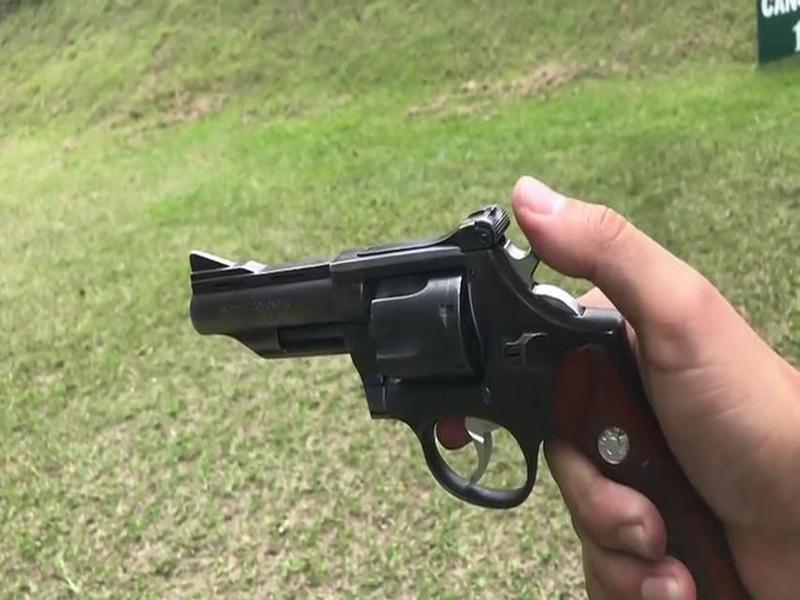Revolver: (171, 163, 706, 552)
